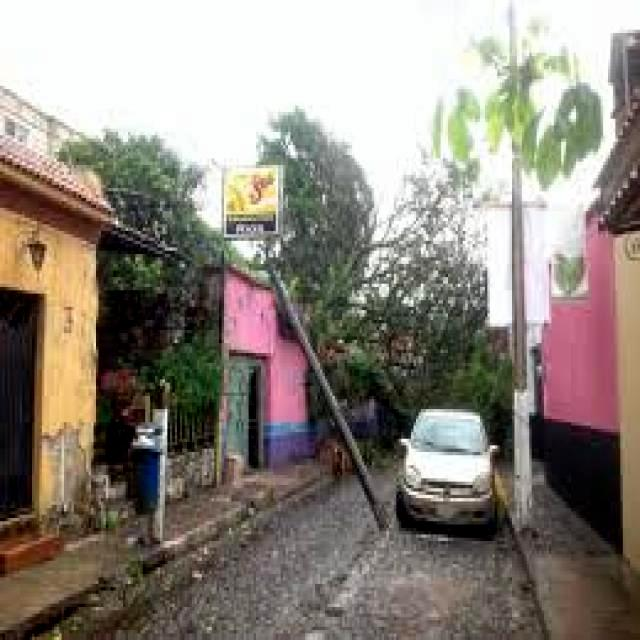Broken Pole: (264, 263, 393, 534)
